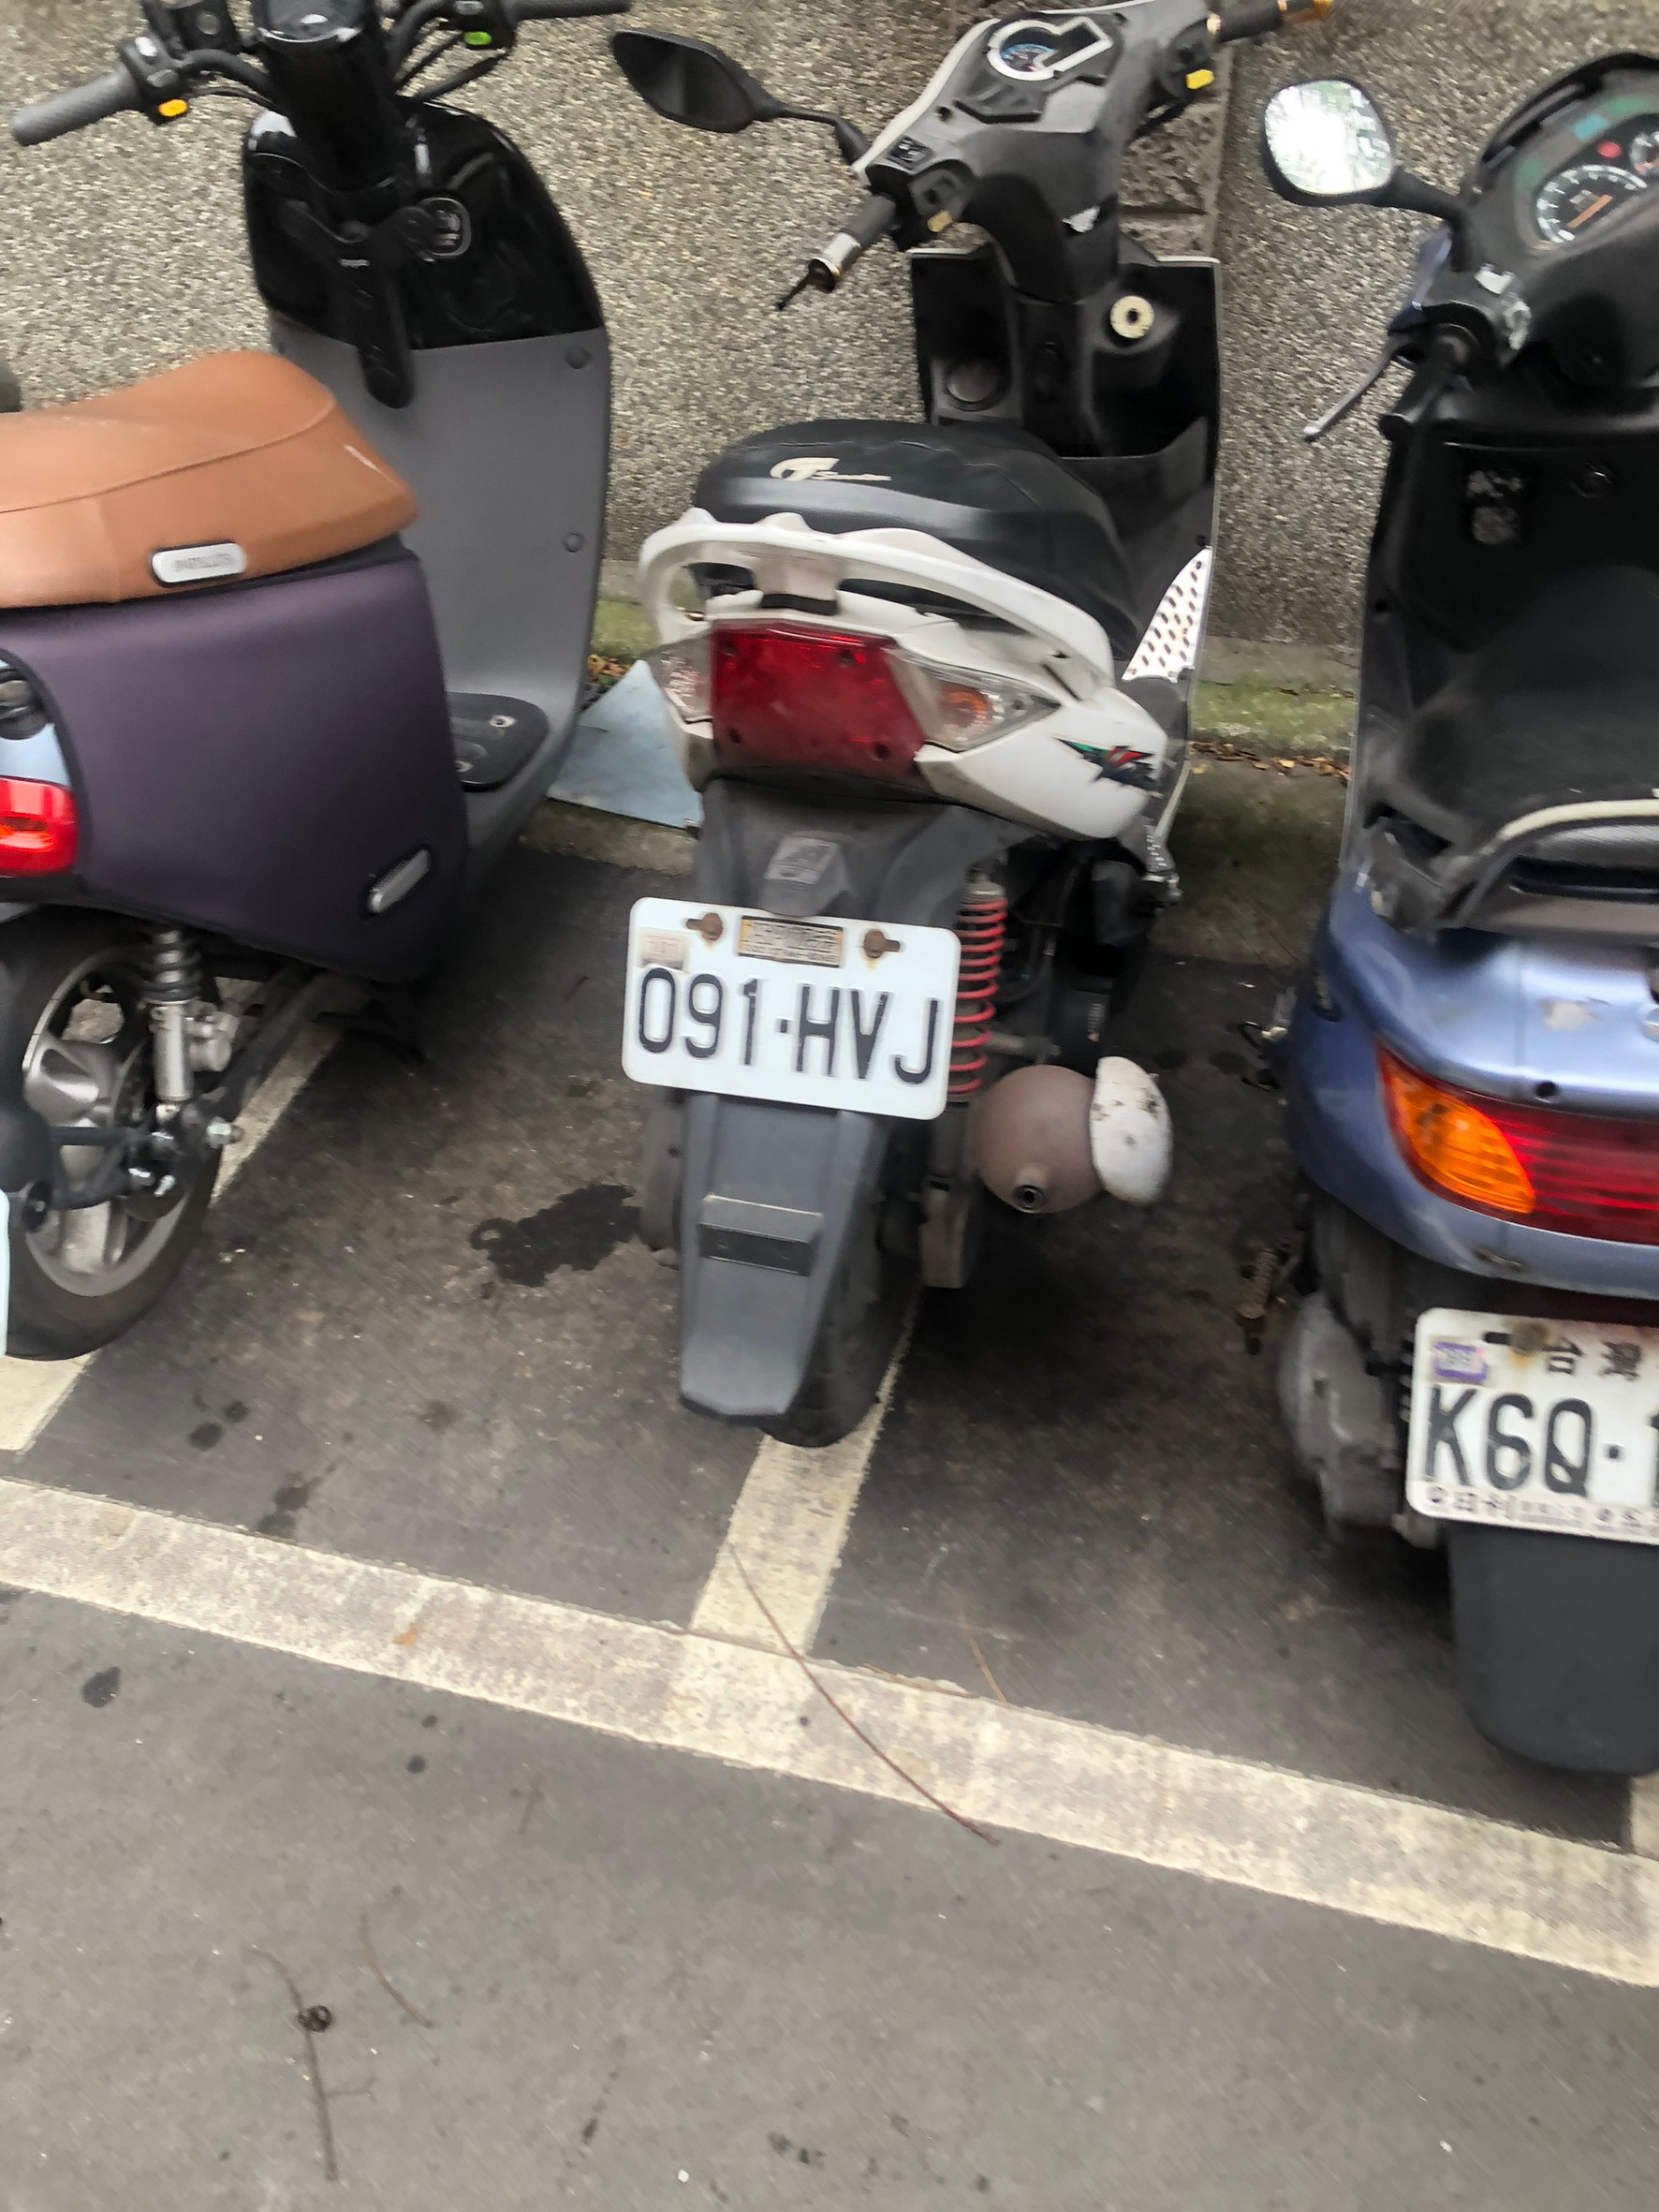LP: (626, 898, 951, 1114), (1412, 1311, 1659, 1537)
